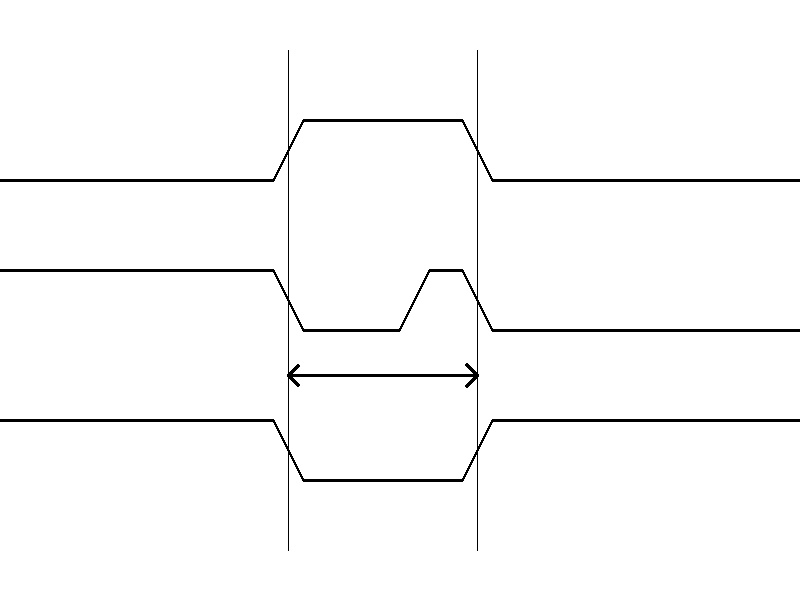double_arrow: (288, 360, 477, 390)
